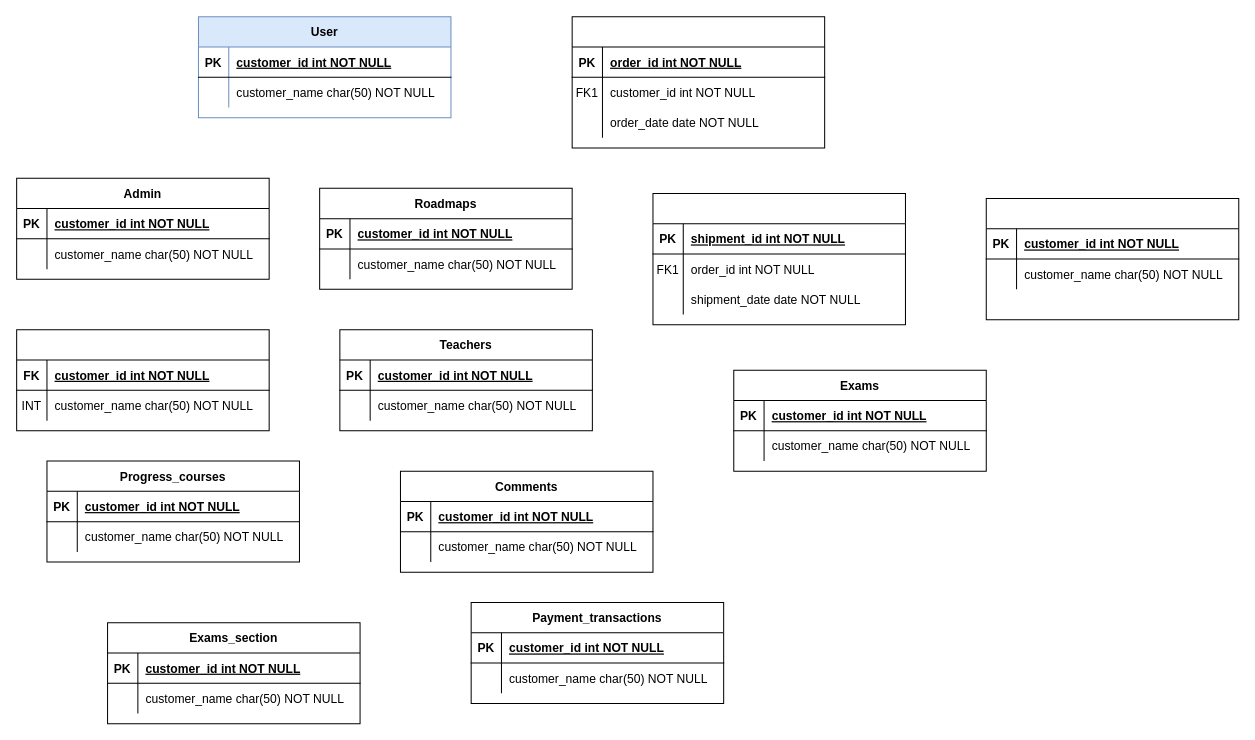
This 1255x740 diagram has some shape labels left out. The box of each missing label's shape, as (x1, y1, x2, y2) in pixels:
Courses: (571, 16, 825, 148)
Sections: (652, 192, 905, 325)
Sections_data: (985, 197, 1239, 320)
Students: (16, 329, 269, 431)
